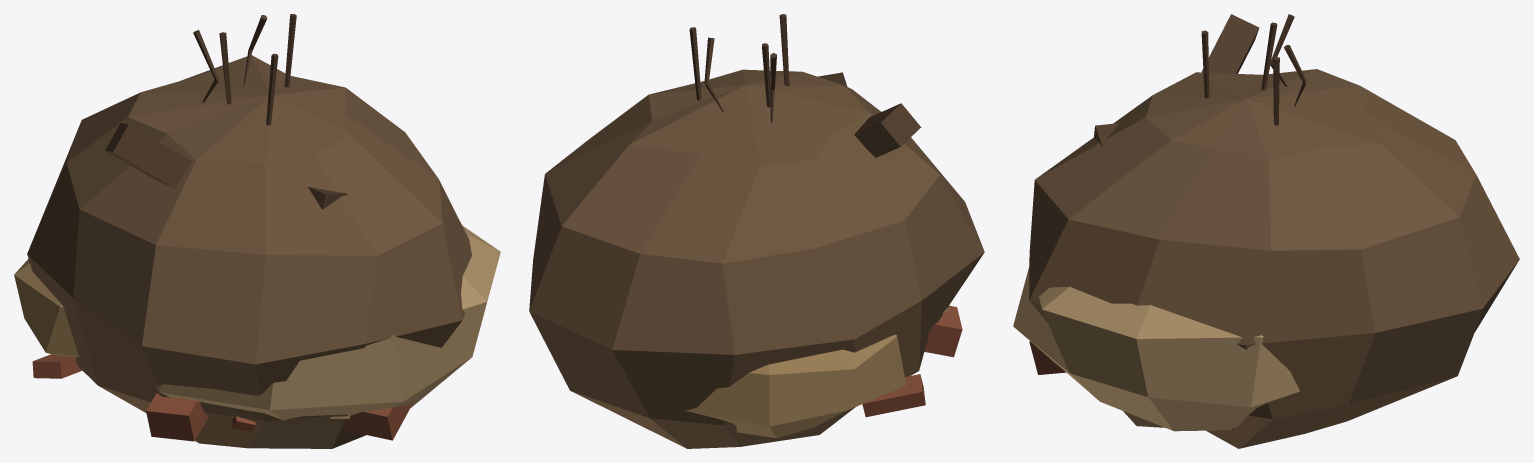
Rendered from TownCaveIn.glb.
3 views of the same model, side by side, from view 1: azimuth 30°, elevation 25°; view 2: azimuth 150°, elevation 25°; view 3: azimuth 270°, elevation 25° (orthographic).
Visible parts, largest first — view 1: TownCaveIn.001; view 2: TownCaveIn.001; view 3: TownCaveIn.001.
Boxes of the visible parts, left/top/right/bottom form: TownCaveIn.001: left=14, top=14, right=500, bottom=448; TownCaveIn.001: left=529, top=14, right=984, bottom=448; TownCaveIn.001: left=1013, top=14, right=1519, bottom=448.
Size of the model in its own units: 3.12 by 2.96 by 3.53.
